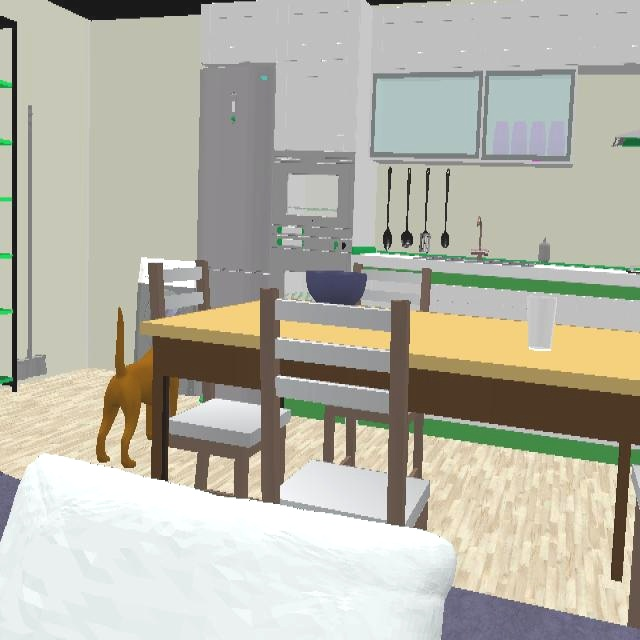cabinet: (200, 0, 640, 247)
chair: (262, 288, 429, 525), (170, 398, 261, 498), (149, 260, 208, 319)
fridge: (198, 63, 275, 306)
microwave: (272, 152, 354, 239)
pillow: (0, 455, 455, 638)
sink: (471, 217, 489, 261)
table: (409, 312, 640, 444), (141, 302, 260, 478), (280, 360, 389, 388), (281, 322, 388, 349)
